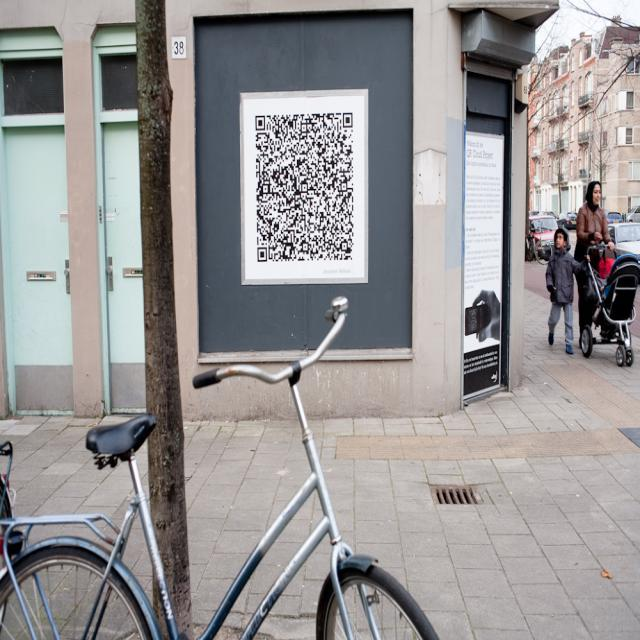qr-code: (255, 113, 353, 261)
